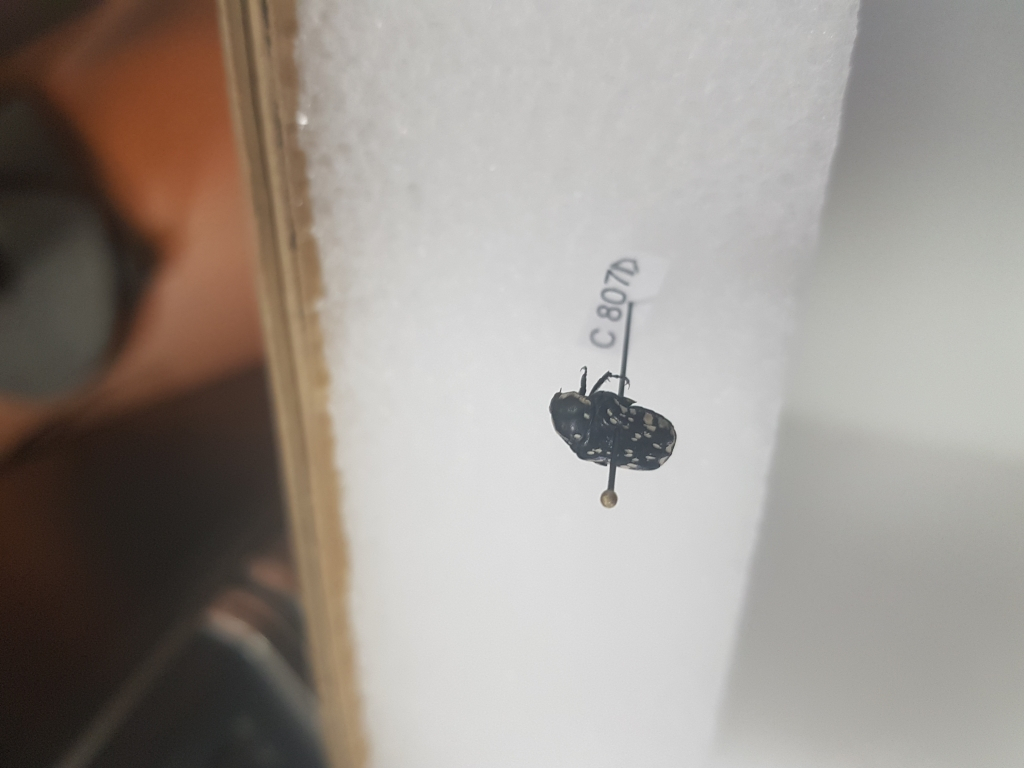Oxythyrea_albopicta: (547, 364, 685, 475)
